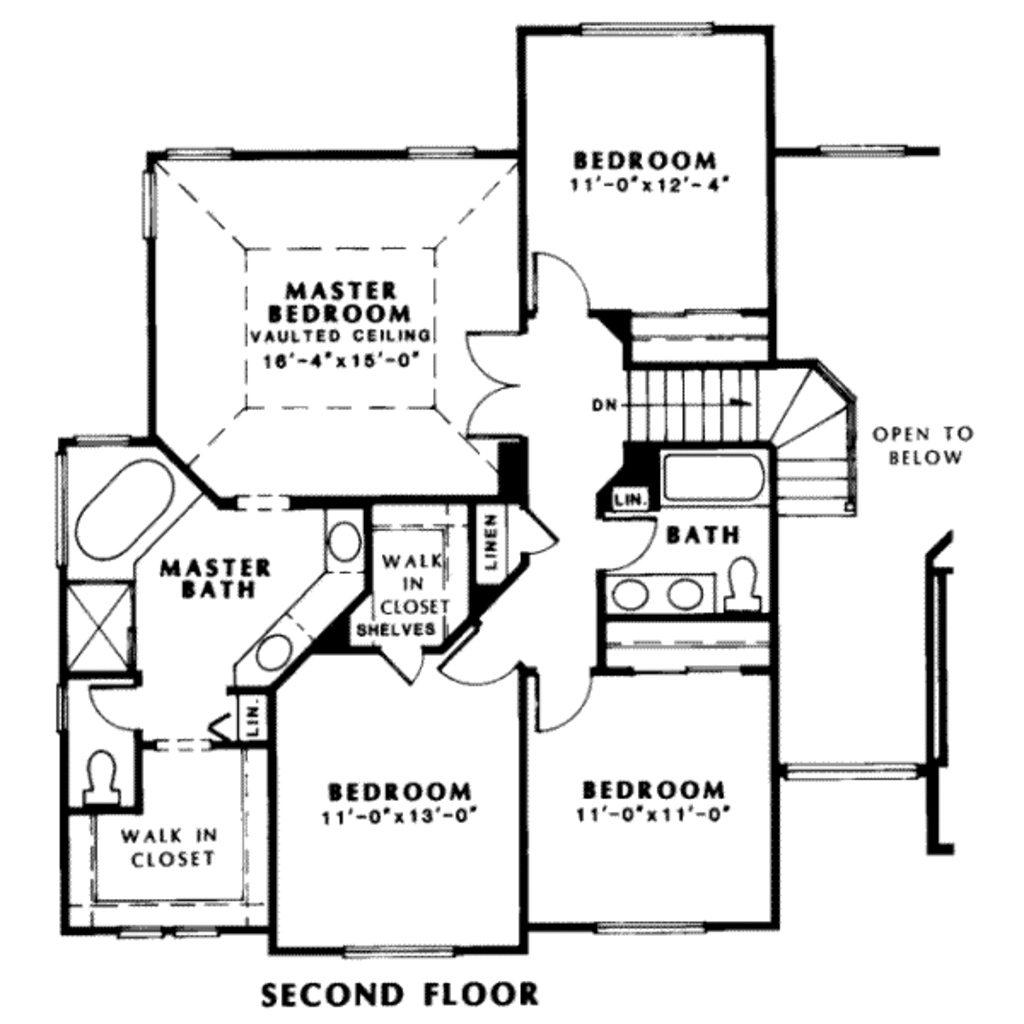door: (453, 316, 535, 444), (437, 624, 514, 695), (527, 662, 598, 735), (592, 507, 662, 572), (532, 246, 593, 316), (86, 678, 151, 743), (508, 499, 568, 567), (367, 635, 428, 688)
large_sink: (77, 748, 132, 813), (725, 552, 766, 610)
small_sink: (224, 616, 317, 684), (323, 501, 373, 578), (613, 570, 714, 608)
stairs: (616, 354, 867, 523)
tub: (73, 447, 195, 582), (657, 442, 772, 504)
window: (574, 15, 721, 42), (339, 939, 471, 966), (594, 917, 709, 939), (132, 174, 168, 244), (119, 928, 231, 943), (170, 144, 237, 165), (399, 144, 490, 158)
